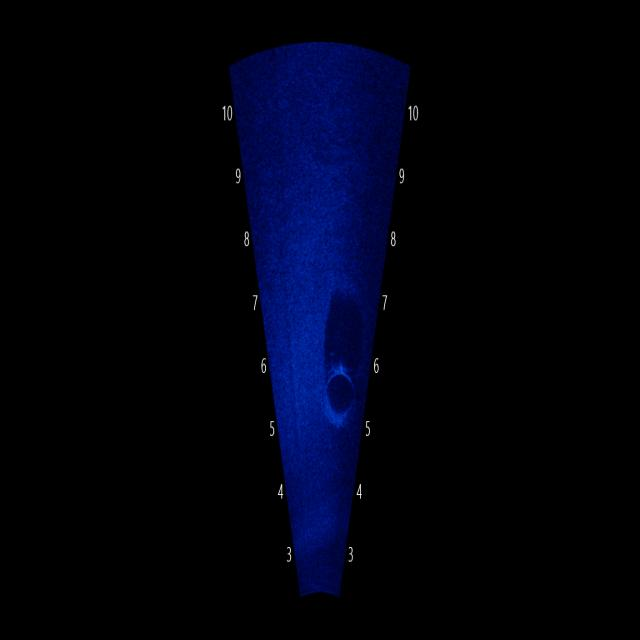circle: (308, 343, 367, 449)
